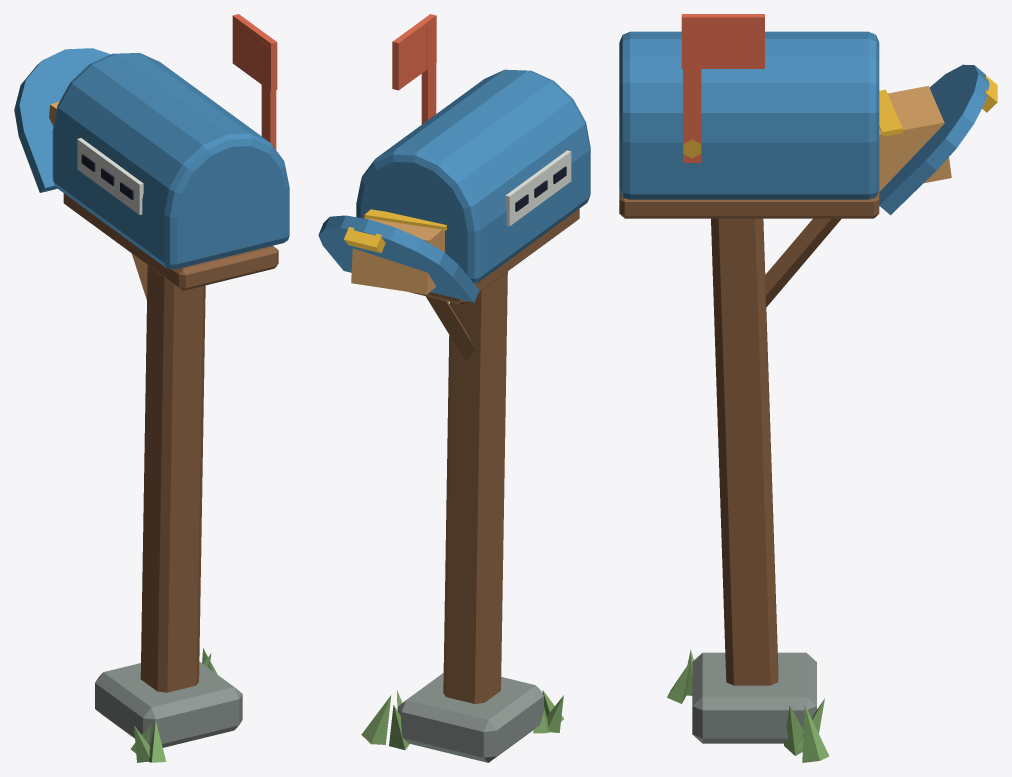
The model's file is sm_env_prop_mailbox.glb.
3 renders of one model, left to right at view 1: azimuth 30°, elevation 25°; view 2: azimuth 150°, elevation 25°; view 3: azimuth 270°, elevation 25°, orthographic. The views are drawn at different scales.
Parts seen in each view (by area): view 1: Mailbox, Post, PostBase, MailboxDoor, MailboxShelf, Flag, NamePlate, FlagStaff; view 2: Mailbox, Post, PostBase, MailboxDoor, Parcel, Flag, NamePlate, MailboxShelf, FlagStaff, Brace, GrassTuft, ParcelTape (+1 smaller); view 3: Mailbox, Post, PostBase, MailboxDoor, MailboxShelf, Flag, Parcel, Brace, FlagStaff, GrassTuft, ParcelTape.
Part boxes in pixels (box(x1,y1,x2,y2)): Mailbox: box(52, 52, 289, 269); Post: box(140, 265, 205, 692); PostBase: box(95, 661, 242, 747); MailboxDoor: box(14, 48, 110, 192); MailboxShelf: box(63, 193, 278, 290); Flag: box(232, 14, 277, 91); NamePlate: box(77, 138, 143, 214); FlagStaff: box(261, 41, 276, 149); Mailbox: box(356, 69, 590, 283); Post: box(443, 271, 507, 703); PostBase: box(398, 673, 543, 762); MailboxDoor: box(318, 215, 479, 302); Parcel: box(351, 218, 444, 294); Flag: box(392, 14, 436, 90); NamePlate: box(505, 150, 571, 226); MailboxShelf: box(409, 208, 579, 304); FlagStaff: box(421, 20, 436, 124); Brace: box(426, 296, 474, 361); GrassTuft: box(361, 695, 391, 744); ParcelTape: box(364, 209, 446, 231); Mailbox: box(619, 31, 879, 199); Post: box(711, 218, 778, 685); PostBase: box(692, 652, 816, 743); MailboxDoor: box(879, 64, 997, 215); MailboxShelf: box(619, 190, 879, 218); Flag: box(681, 14, 764, 68); Parcel: box(878, 86, 951, 191); Brace: box(765, 218, 841, 307); FlagStaff: box(683, 69, 701, 162); GrassTuft: box(802, 704, 829, 762); ParcelTape: box(879, 89, 903, 136).
Bounding box in the file's own units: 0.3551 × 1.59 × 0.7277.
